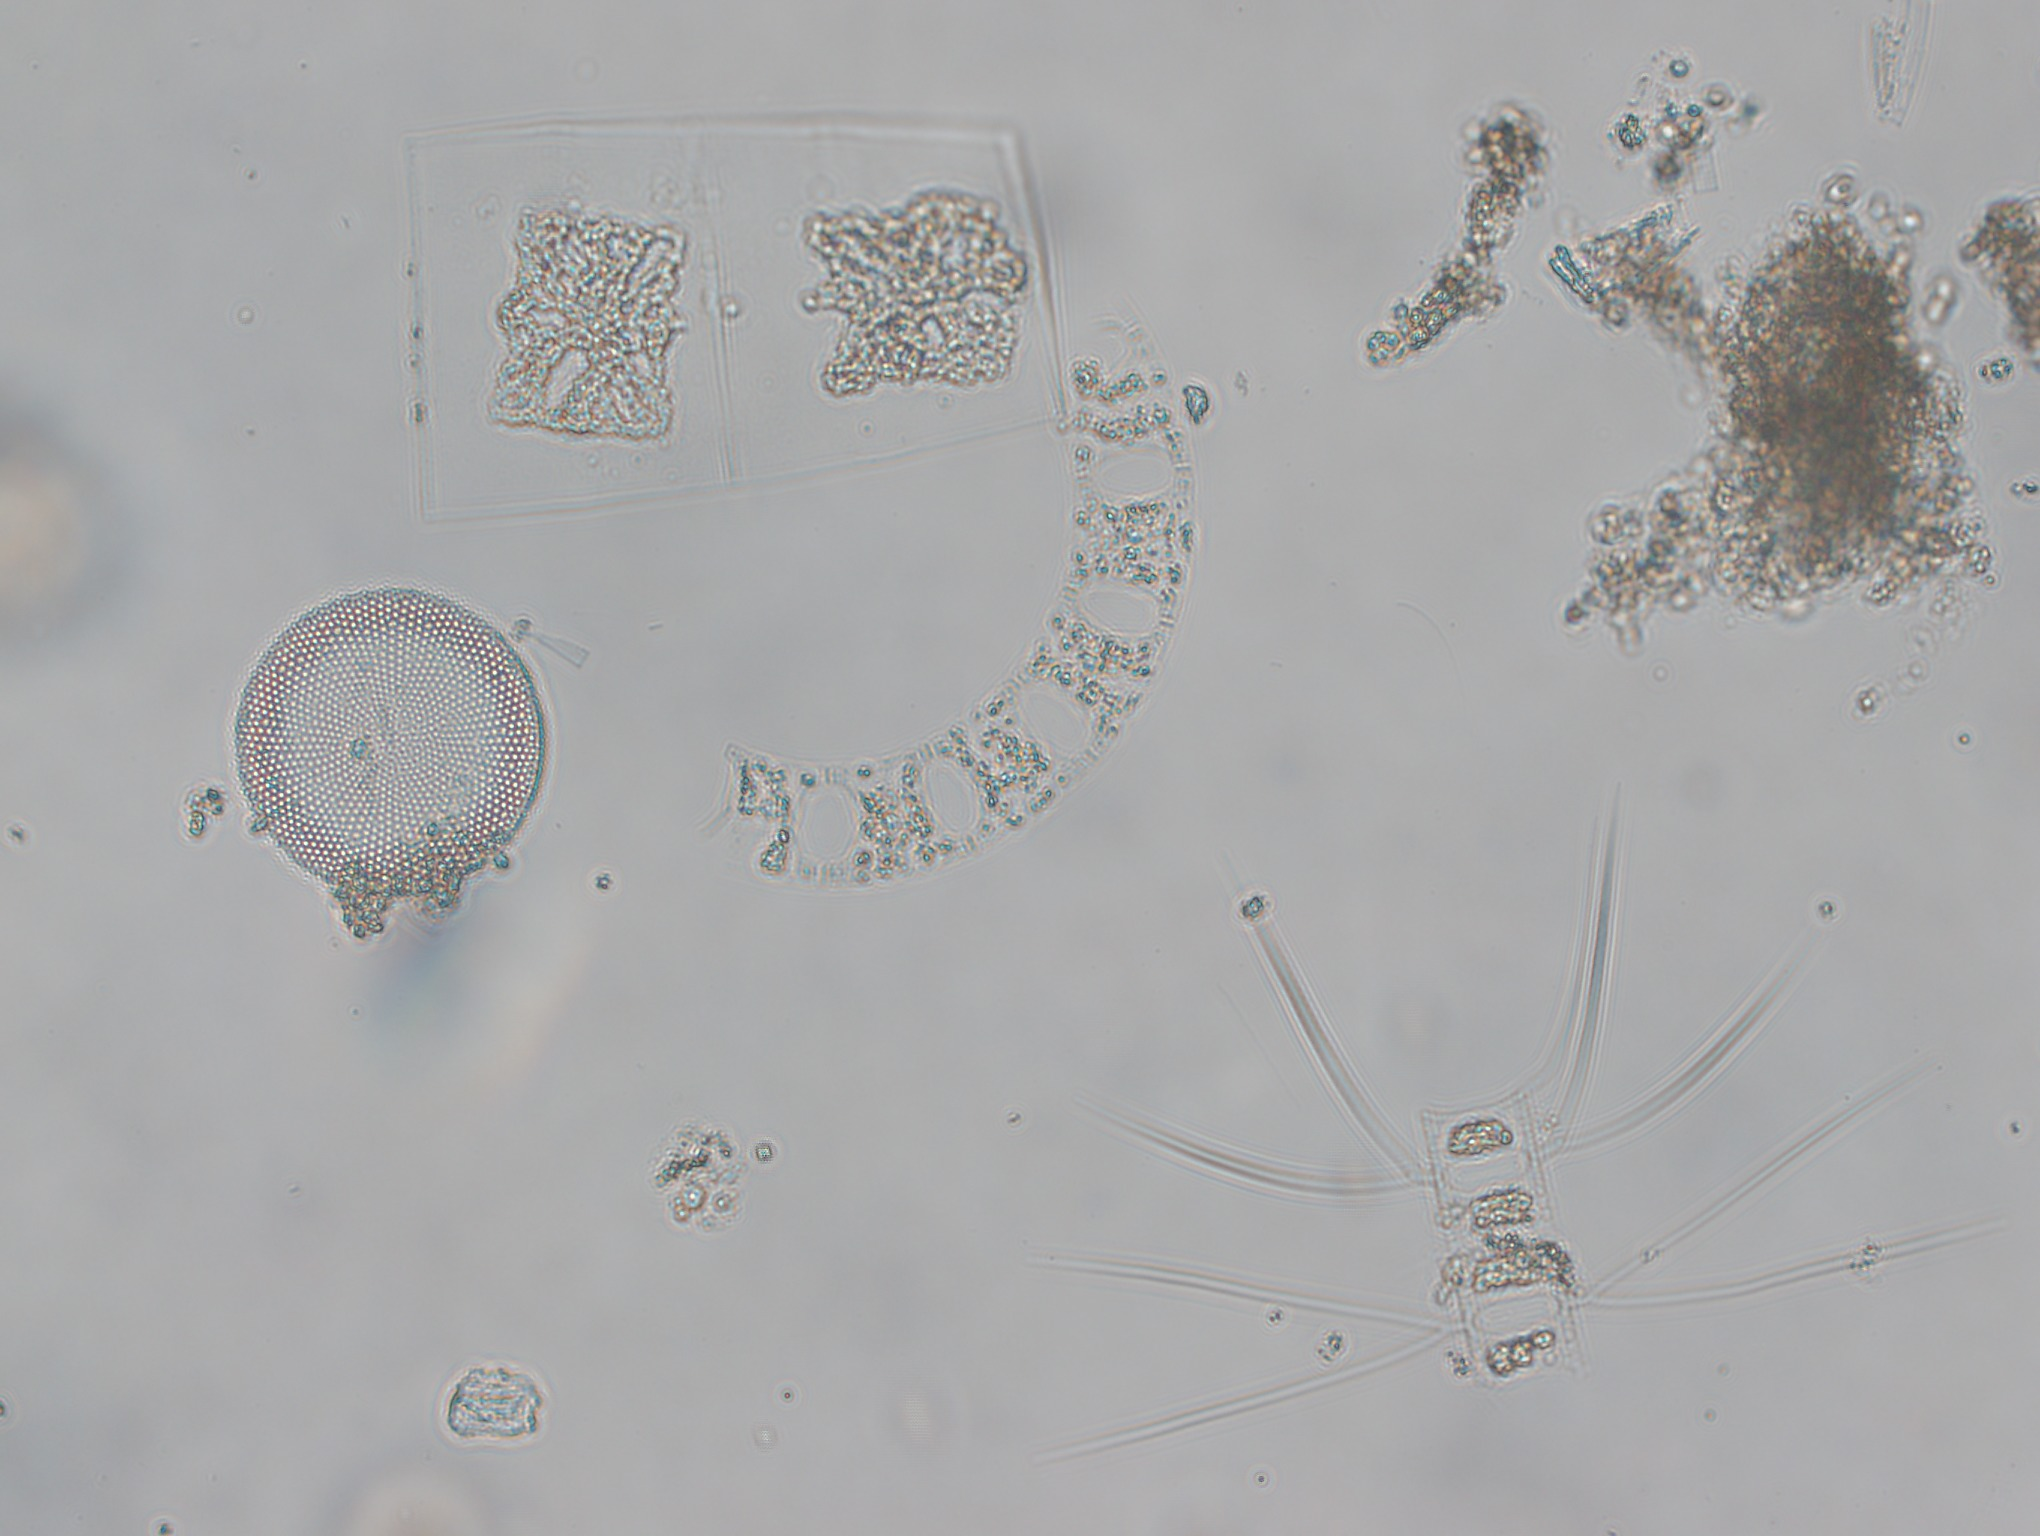chaetoceros: (1056, 781, 2011, 1459)
coscinodiscus: (227, 581, 552, 899)
eucampia: (697, 295, 1200, 892)
helicotheca: (402, 103, 1074, 532)
